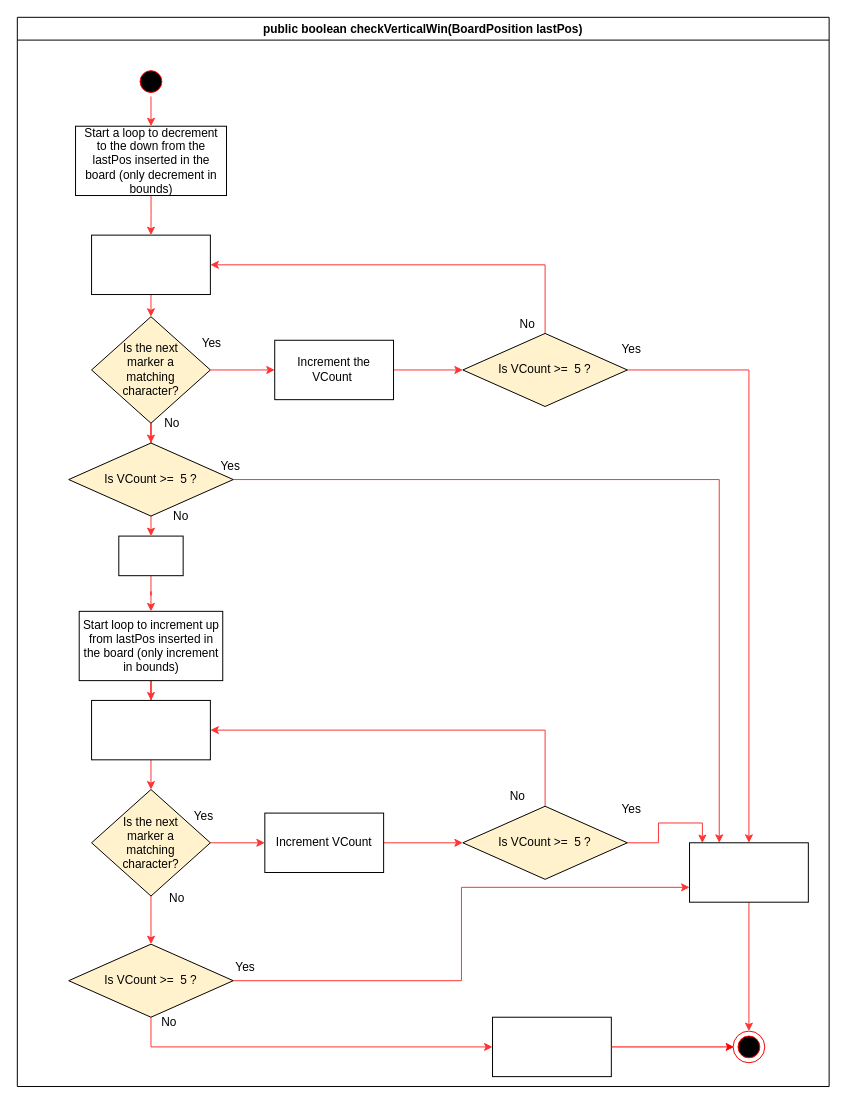
Image size: 846x1104. Some labels were removed from this diagram. Here are the shapes that lost their labels. From the top down, the centre of each, then its label:
point 150,264: Decrement one space down
point 150,555: Exit loop
point 150,729: Increment one space up
point 748,872: Return True
point 551,1046: Return False
